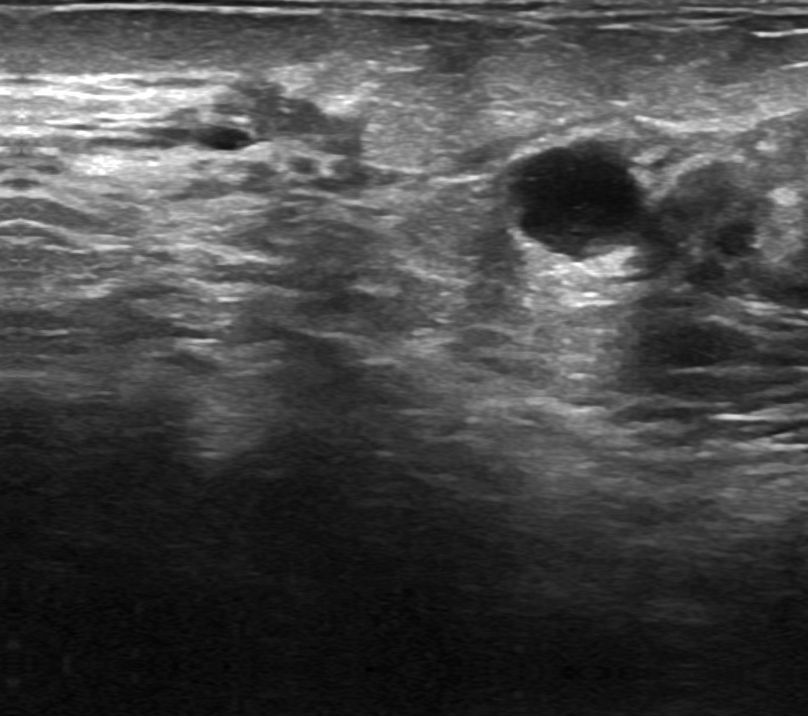Benign: (506, 131, 644, 259)
